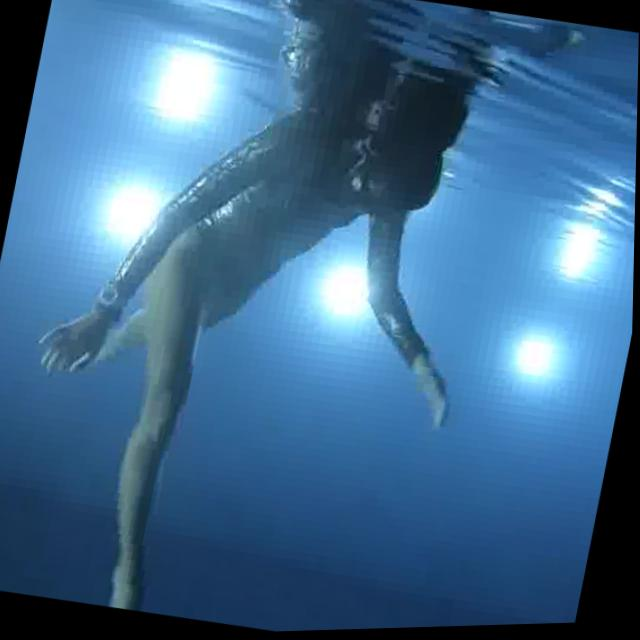human: (0, 56, 522, 640)
